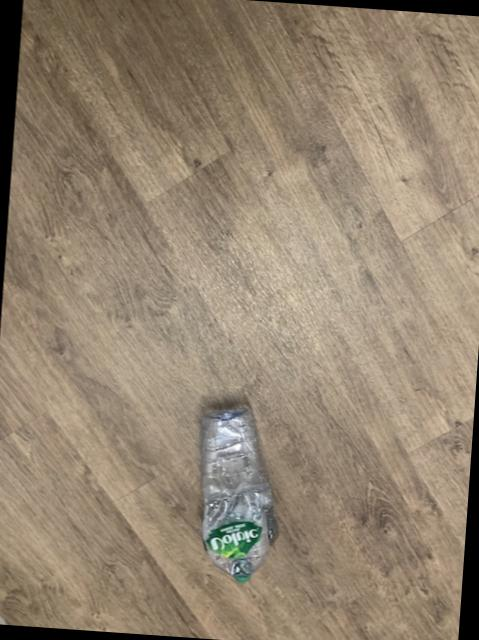plastic: (198, 409, 275, 583)
